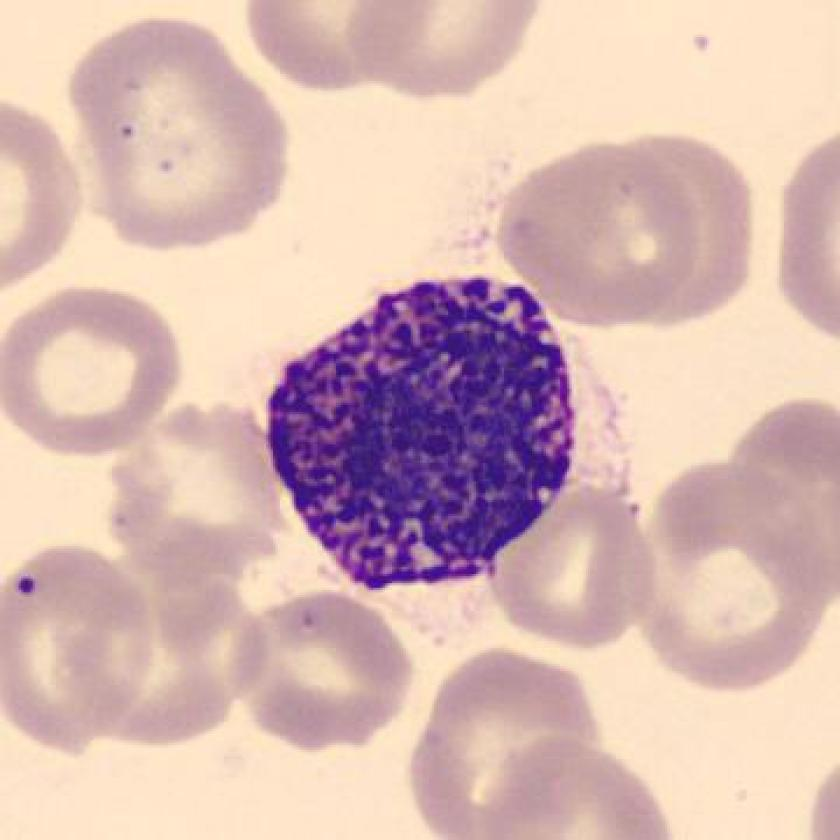basophil: (256, 265, 585, 600)
